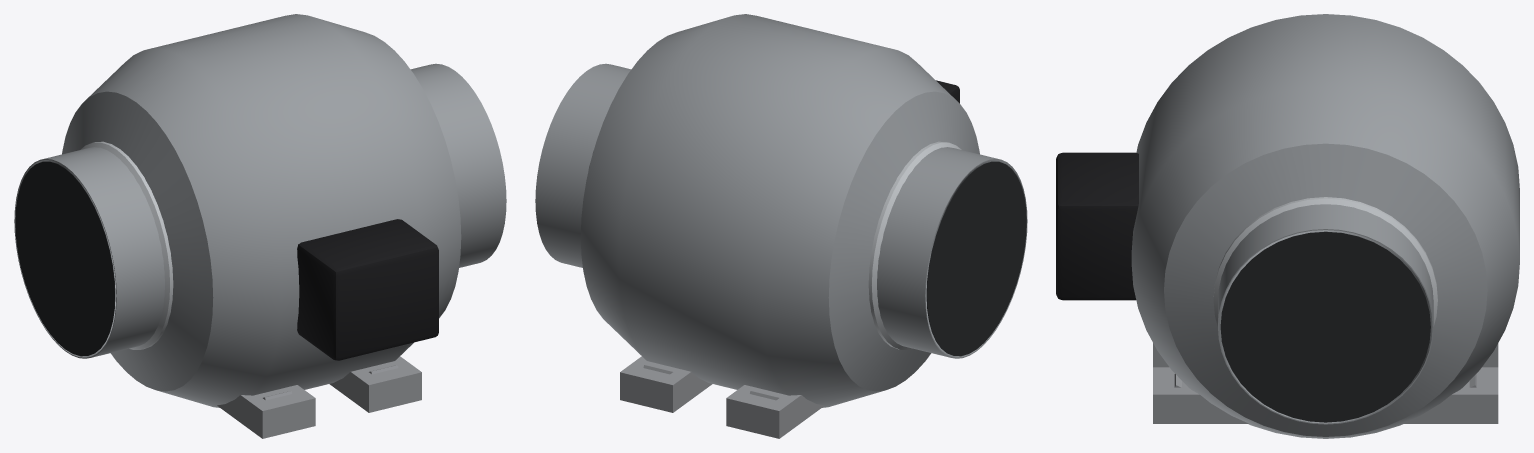
Rendered from inline-round-duct-fan-200mm.glb.
3 views of the same model, side by side, from view 1: azimuth 30°, elevation 25°; view 2: azimuth 150°, elevation 25°; view 3: azimuth 270°, elevation 25° (orthographic). The views are drawn at different scales.
Parts seen in each view (by area): view 1: Inline round duct fan 200 mm housing with spigots - Fan hous, Terminal box and mounting brackets - Terminal box, black pla, Inline round duct fan 200 mm housing with spigots - Duct int, Terminal box and mounting brackets - Hanger steel / threaded, Inline round duct fan 200 mm housing with spigots - Galvanis; view 2: Inline round duct fan 200 mm housing with spigots - Fan hous, Inline round duct fan 200 mm housing with spigots - Duct int, Terminal box and mounting brackets - Hanger steel / threaded, Inline round duct fan 200 mm housing with spigots - Galvanis; view 3: Inline round duct fan 200 mm housing with spigots - Fan hous, Inline round duct fan 200 mm housing with spigots - Duct int, Terminal box and mounting brackets - Terminal box, black pla, Terminal box and mounting brackets - Hanger steel / threaded, Inline round duct fan 200 mm housing with spigots - Galvanis.
Boxes of the visible parts, x1,y1,x2,y2 form: Inline round duct fan 200 mm housing with spigots - Fan hous: (14,14,506,407); Terminal box and mounting brackets - Terminal box, black pla: (297,219,438,360); Inline round duct fan 200 mm housing with spigots - Duct int: (15,161,115,356); Terminal box and mounting brackets - Hanger steel / threaded: (217,356,421,438); Inline round duct fan 200 mm housing with spigots - Galvanis: (80,141,453,349); Inline round duct fan 200 mm housing with spigots - Fan hous: (535,14,1027,407); Inline round duct fan 200 mm housing with spigots - Duct int: (926,161,1026,356); Terminal box and mounting brackets - Hanger steel / threaded: (620,356,824,438); Inline round duct fan 200 mm housing with spigots - Galvanis: (588,141,961,349); Inline round duct fan 200 mm housing with spigots - Fan hous: (1131,14,1519,438); Inline round duct fan 200 mm housing with spigots - Duct int: (1220,231,1430,422); Terminal box and mounting brackets - Terminal box, black pla: (1056,152,1138,300); Terminal box and mounting brackets - Hanger steel / threaded: (1153,343,1498,423); Inline round duct fan 200 mm housing with spigots - Galvanis: (1213,197,1437,326).
Size of the model in its own units: 0.4415 by 0.36 by 0.43.
5 materials, 5 textured.
